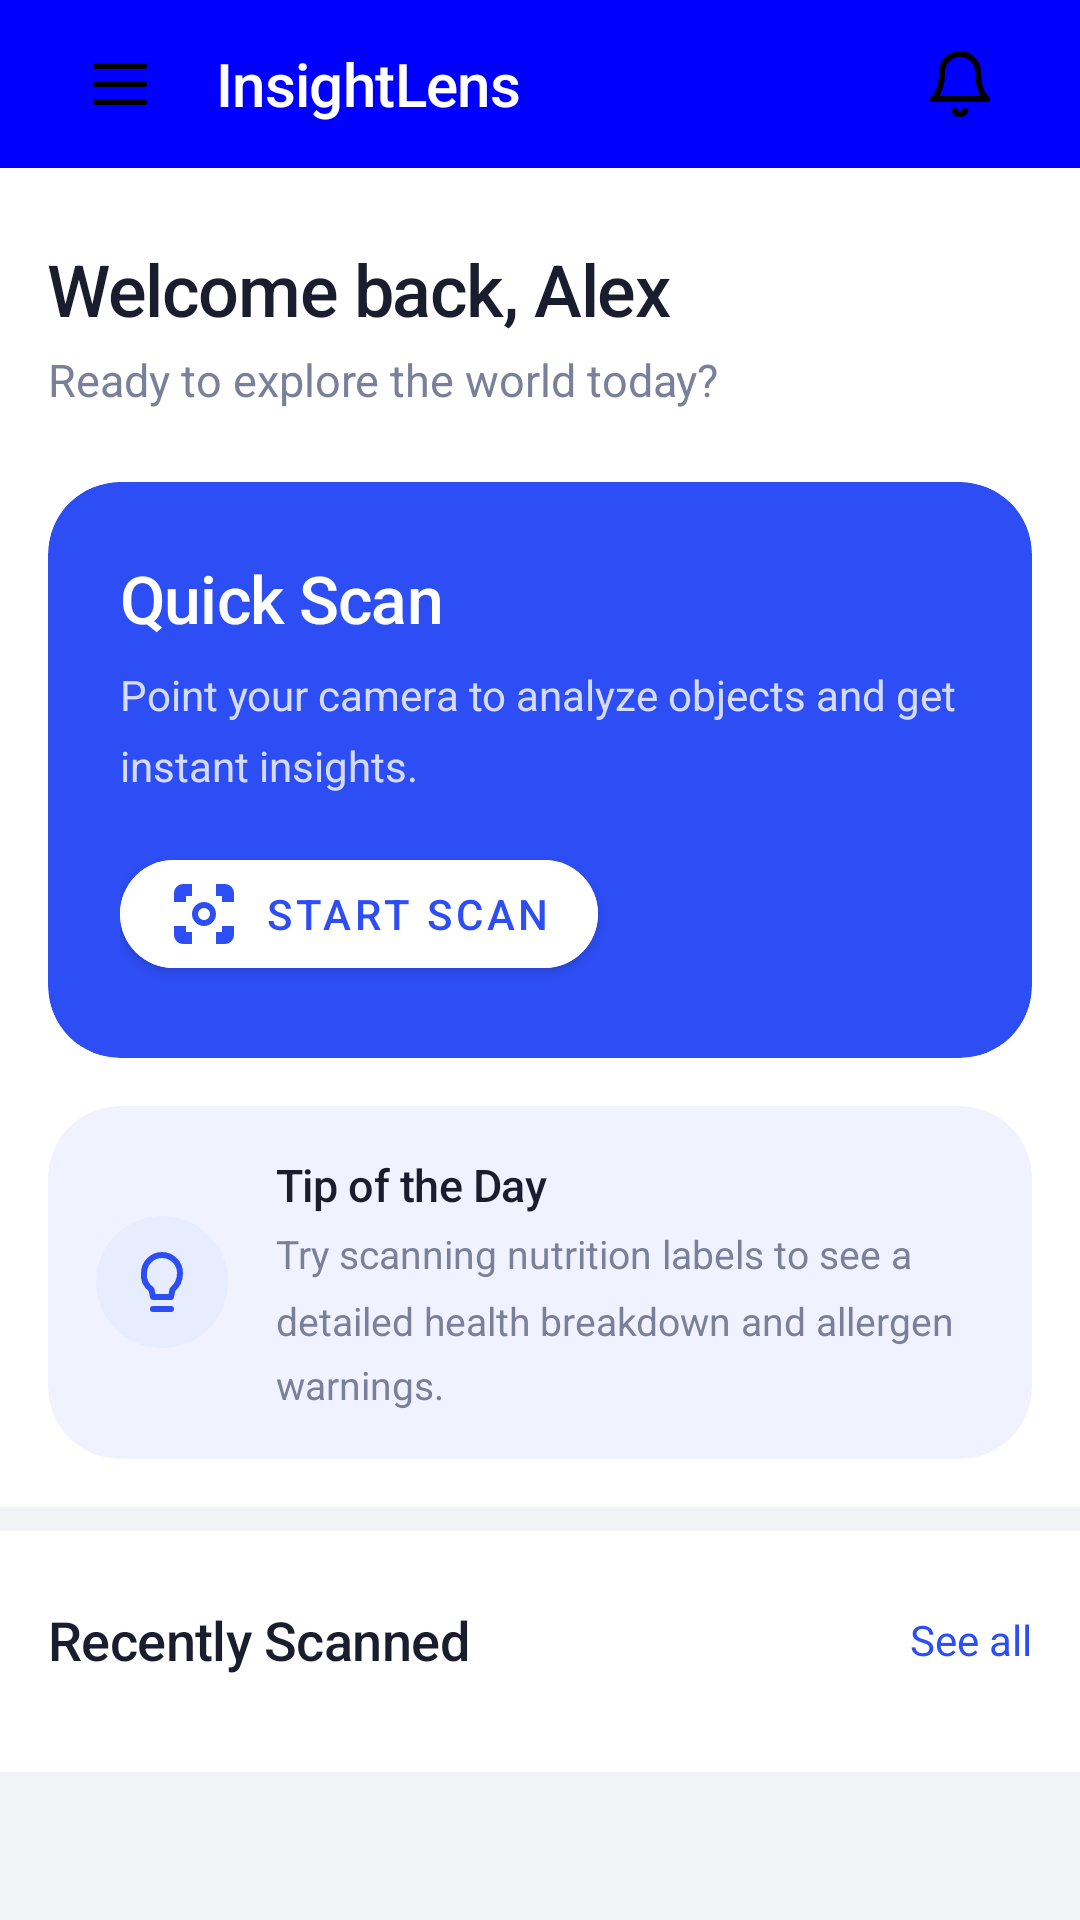

Named icons in this screenshot (1080 × 1920) and their bounding boxes, {"x1": x1, "y1": y1, "x2": x2, "y2": y2}:
lightbulb: {"x1": 141, "y1": 1252, "x2": 183, "y2": 1312}
Menu: {"x1": 93, "y1": 63, "x2": 147, "y2": 105}
Notifications: {"x1": 930, "y1": 51, "x2": 990, "y2": 117}
